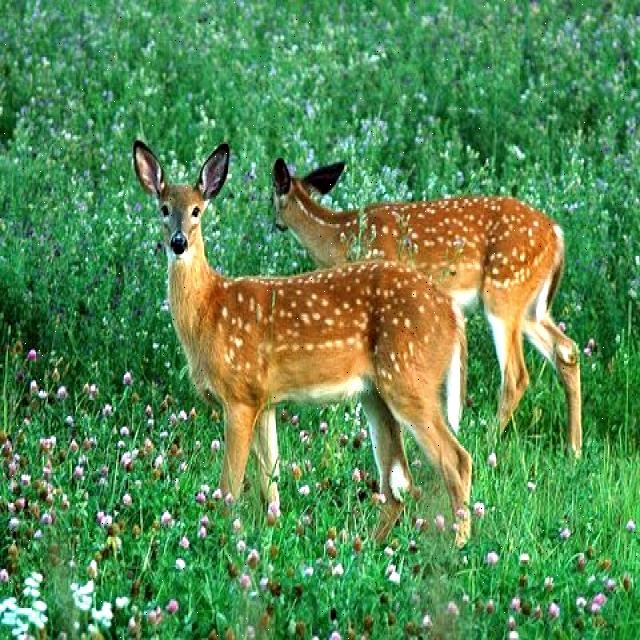deer: (125, 126, 465, 562), (265, 138, 590, 270)
